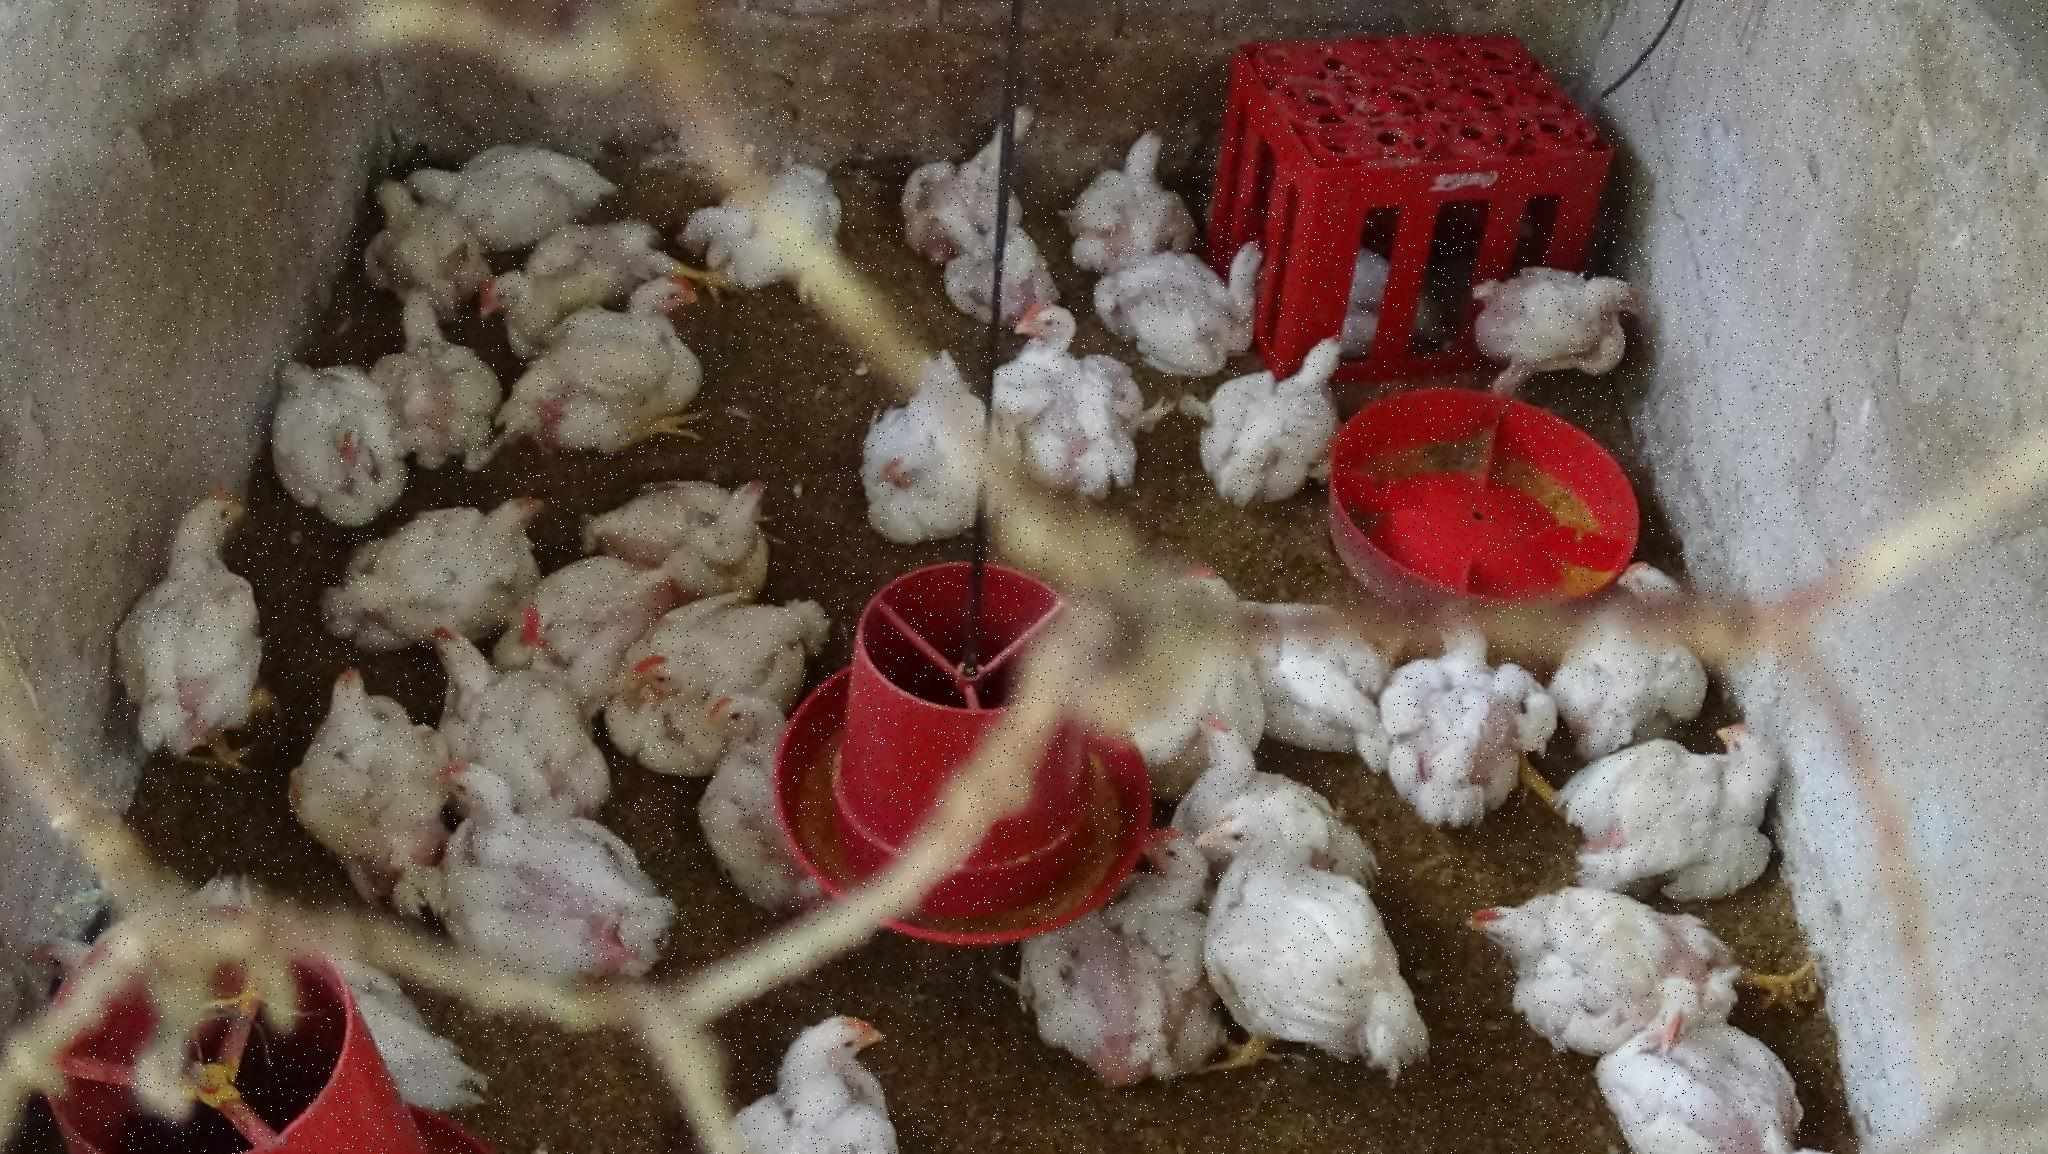Pollos: (1210, 808, 1421, 1084), (430, 761, 674, 991), (1011, 825, 1228, 1077), (107, 494, 288, 780), (1466, 846, 1729, 1041), (1599, 977, 1858, 1154), (516, 286, 727, 476), (1384, 602, 1556, 832), (1457, 239, 1671, 411), (1573, 714, 1789, 882), (620, 578, 817, 754), (698, 691, 854, 909), (729, 992, 934, 1154), (985, 305, 1155, 495), (1560, 540, 1716, 737), (295, 657, 432, 877), (356, 486, 556, 633), (1250, 573, 1408, 754), (374, 258, 504, 476), (1194, 334, 1356, 505), (837, 362, 996, 536), (681, 146, 848, 303), (1107, 249, 1281, 370), (8, 882, 160, 1019), (916, 89, 1054, 236), (279, 348, 398, 514), (639, 464, 783, 588), (1069, 137, 1205, 265), (475, 235, 660, 326), (497, 132, 626, 235), (414, 612, 518, 723), (935, 220, 1058, 312), (1182, 699, 1266, 806), (506, 573, 598, 668), (1172, 557, 1252, 645), (360, 173, 426, 253), (414, 142, 473, 208)
